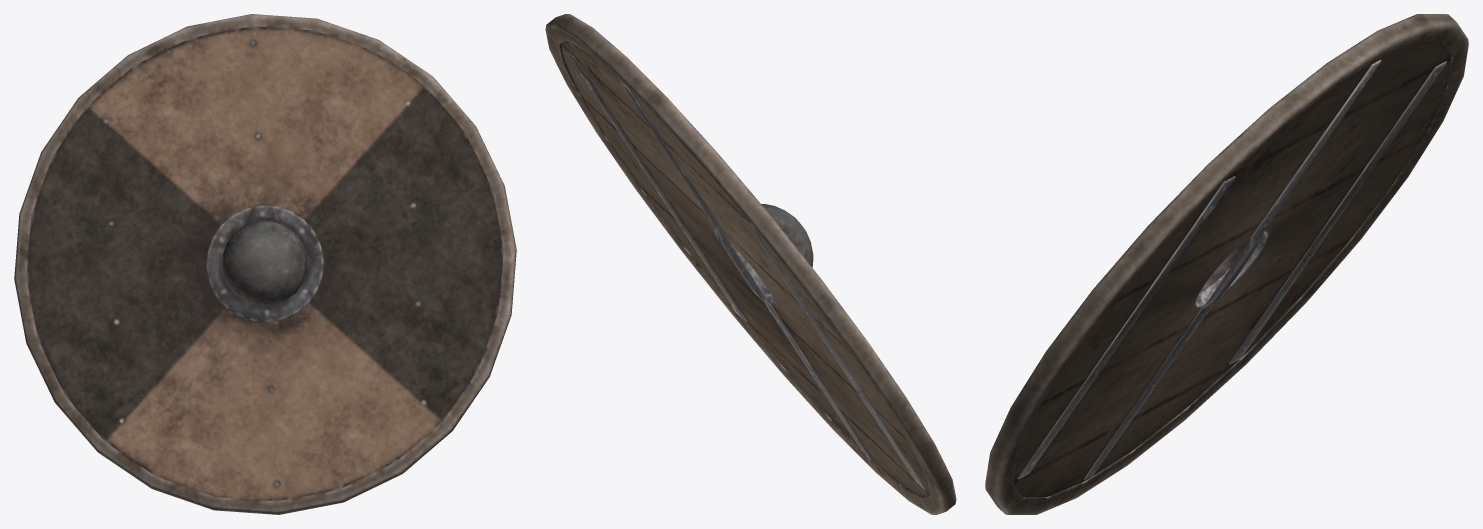
File: farm_shield.glb
3 views of the same model, side by side, from view 1: azimuth 30°, elevation 25°; view 2: azimuth 150°, elevation 25°; view 3: azimuth 270°, elevation 25° (orthographic). The views are drawn at different scales.
Visible parts, largest first — view 1: shield_Shield_0; view 2: shield_Shield_0; view 3: shield_Shield_0.
Boxes of the visible parts, x1,y1,x2,y2 form: shield_Shield_0: [14, 14, 516, 514]; shield_Shield_0: [545, 14, 956, 514]; shield_Shield_0: [985, 14, 1468, 514].
Size of the model in its own units: 0.8028 by 0.7848 by 0.6564.
Materials: 1 (1 with a texture image).
